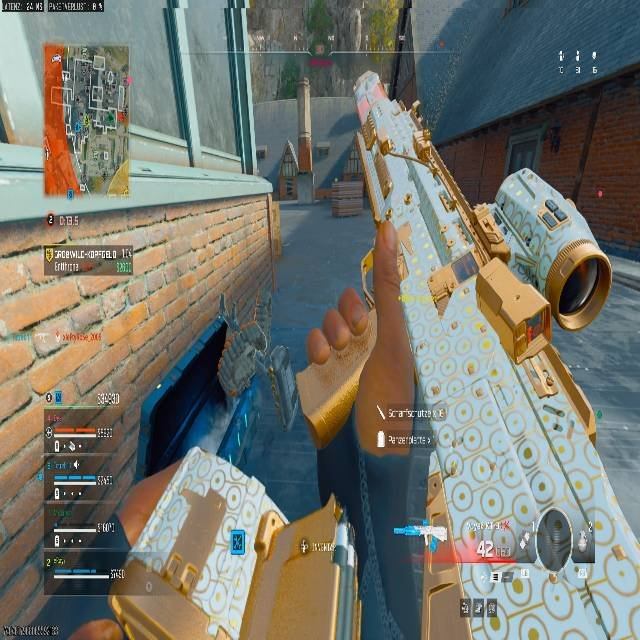head: (357, 70, 382, 93)
